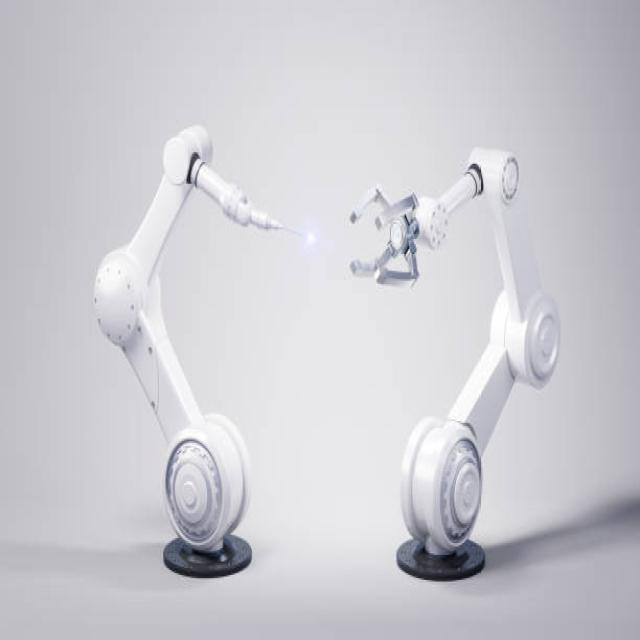Robotic-arm: (89, 108, 324, 600), (339, 125, 570, 590)
